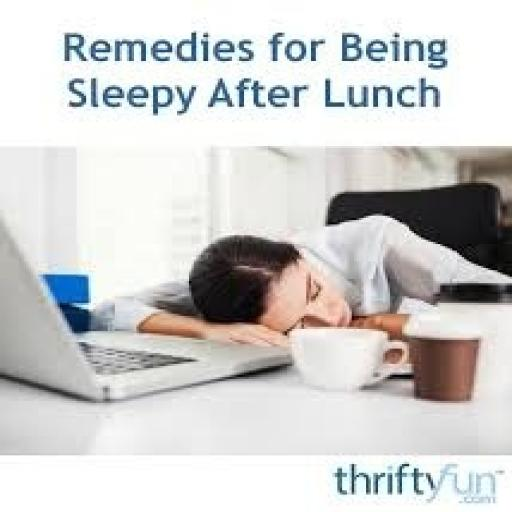sleeping: (112, 211, 510, 349)
